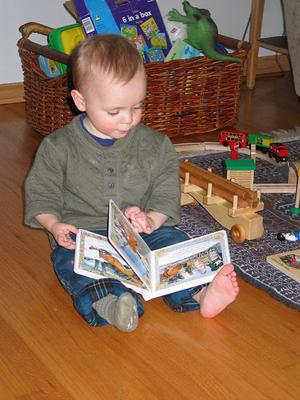person: (22, 35, 241, 337)
